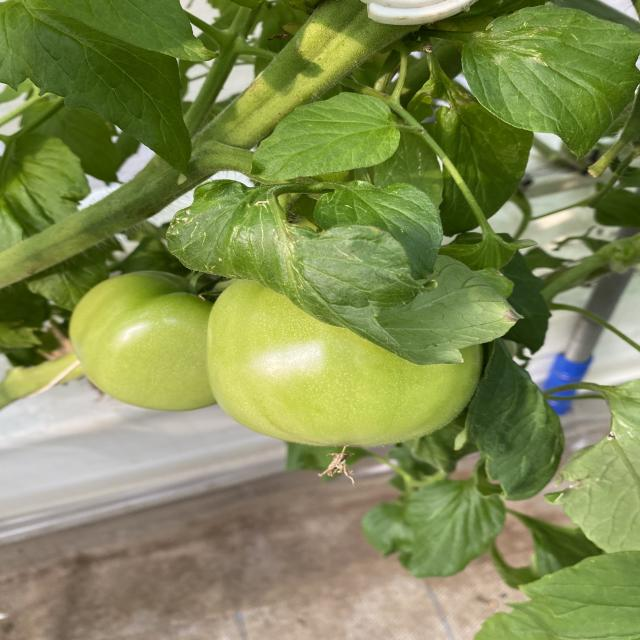yesil: (55, 184, 527, 470)
